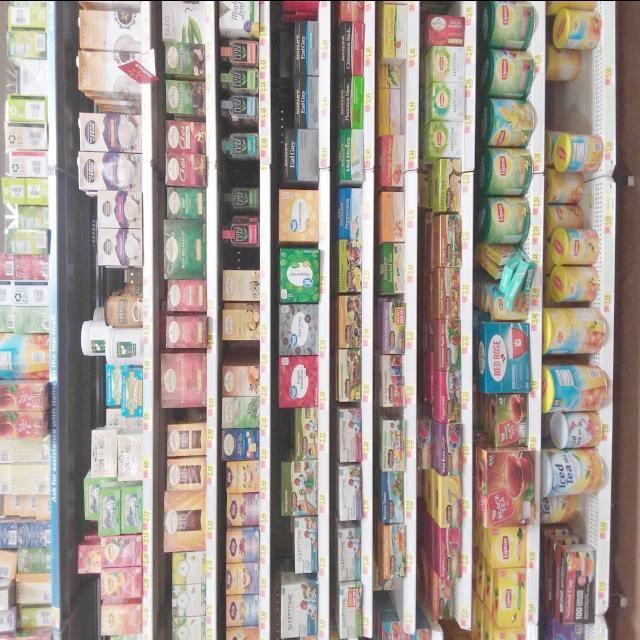empty_space: (547, 83, 597, 125)
